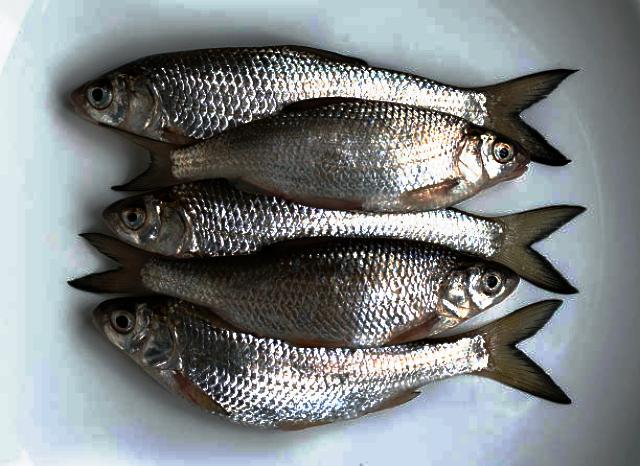Healthy Fish: (67, 232, 520, 350), (111, 97, 530, 213)
